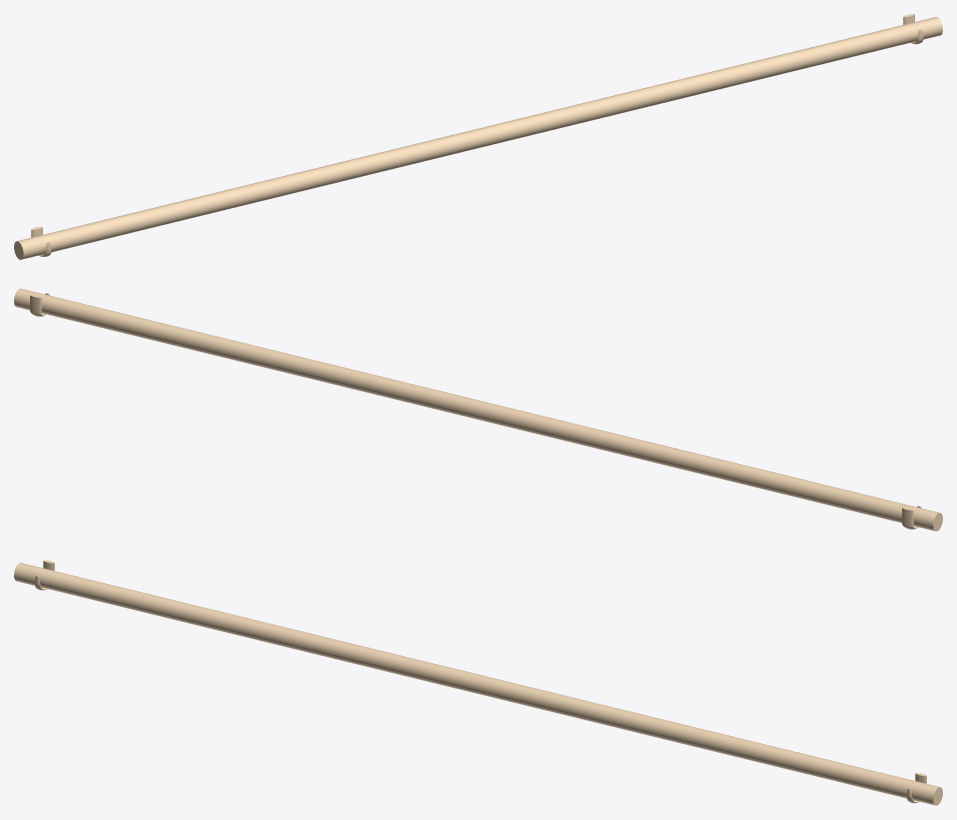
The model's file is AP_CurtainRod_HB.fbx.
3 renders of one model, top to bottom at view 1: azimuth 30°, elevation 25°; view 2: azimuth 150°, elevation 25°; view 3: azimuth 330°, elevation 25°, orthographic.
Parts seen in each view (by area): view 1: pCylinder4; view 2: pCylinder4; view 3: pCylinder4.
Boxes of the visible parts, left/top/right/bottom form: pCylinder4: left=14, top=14, right=942, bottom=259; pCylinder4: left=14, top=288, right=942, bottom=531; pCylinder4: left=14, top=560, right=942, bottom=805.
Bounding box in the file's own units: 1.47 × 0.035 × 0.0369.
